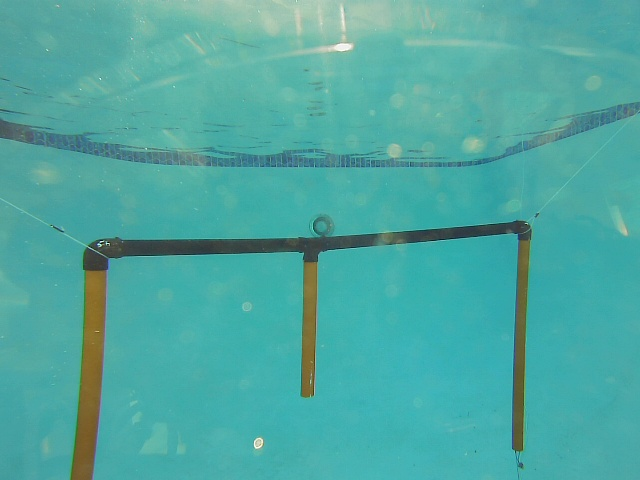Gate: (67, 261, 109, 480), (507, 234, 533, 454), (294, 254, 320, 403)
